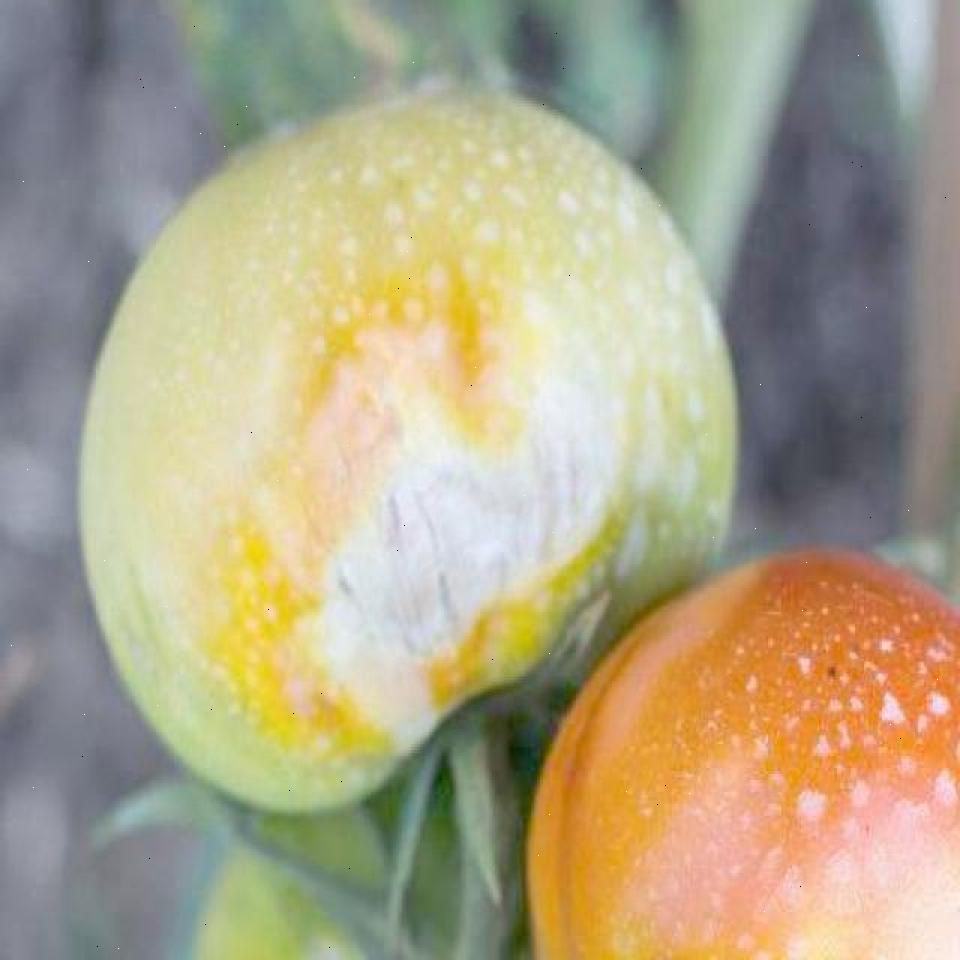Sunscald: (246, 342, 646, 724)
